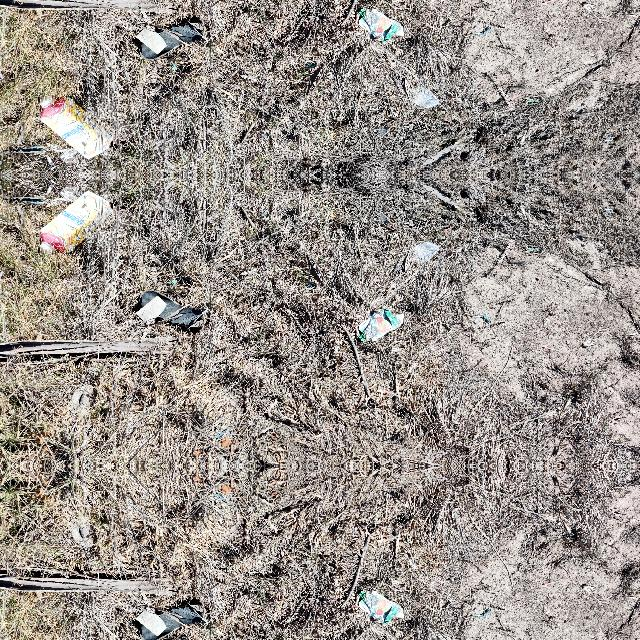Cardboard: (32, 88, 118, 162), (32, 187, 118, 260)
Plastic: (126, 285, 214, 333), (126, 15, 214, 63), (126, 598, 213, 640), (352, 305, 406, 343), (352, 5, 406, 43), (352, 588, 406, 626)
